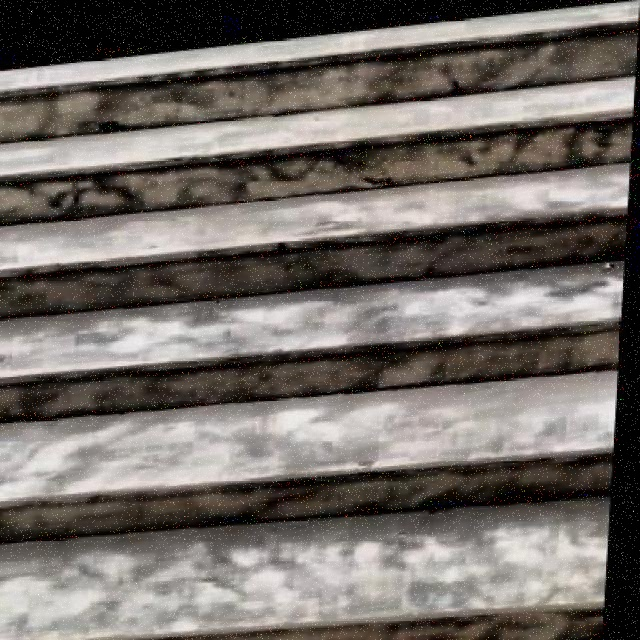stair: (2, 6, 640, 638)
